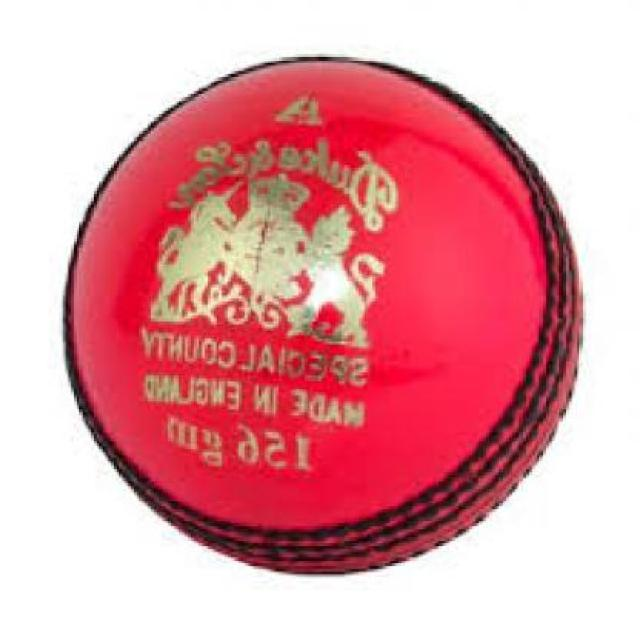ball: (60, 43, 578, 580)
